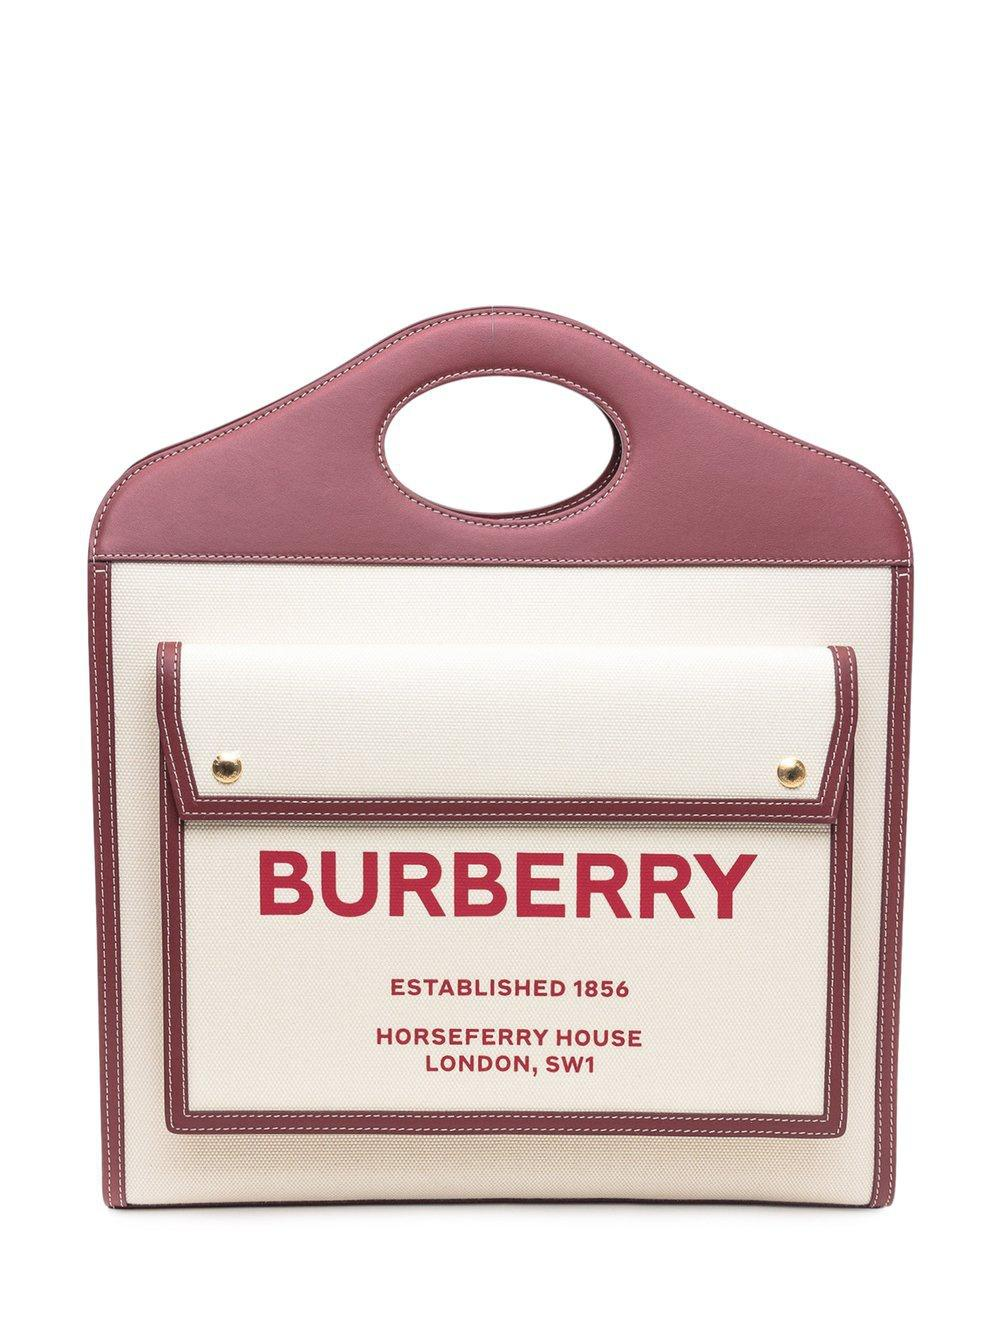BURBERRY: (259, 850, 756, 919)
